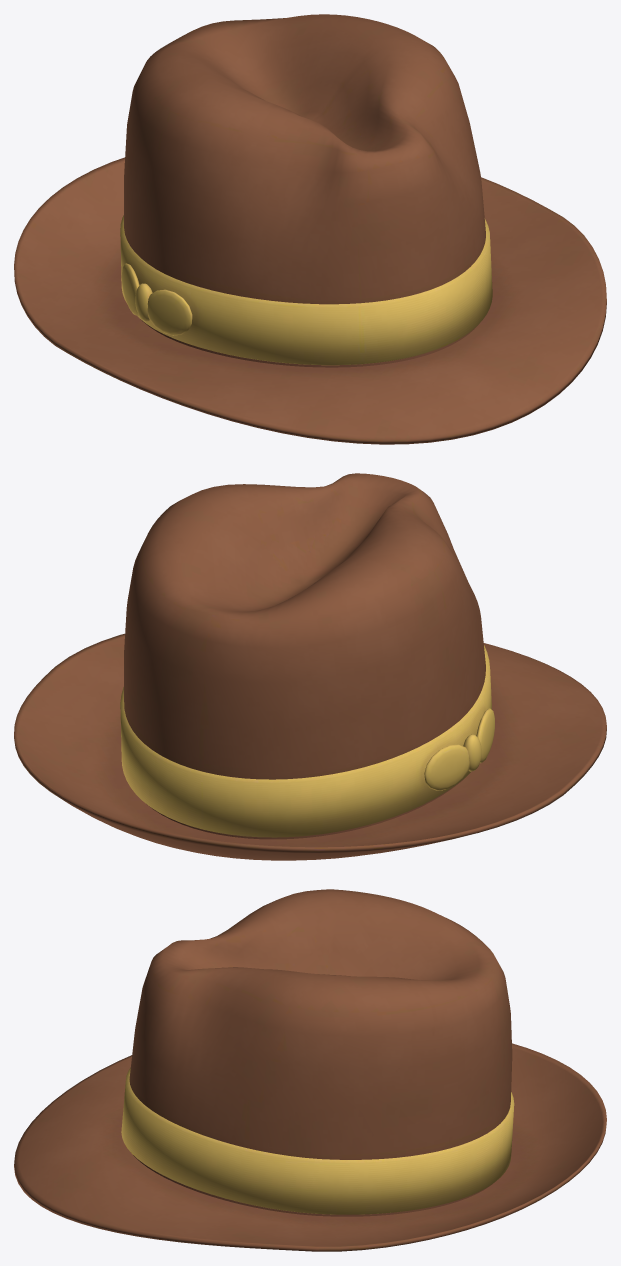
Rendered from fedora.glb.
3 views of the same model, one above another, from view 1: azimuth 30°, elevation 25°; view 2: azimuth 150°, elevation 25°; view 3: azimuth 270°, elevation 25° (orthographic). The views are drawn at different scales.
Parts seen in each view (by area): view 1: fedora_body; view 2: fedora_body; view 3: fedora_body.
Boxes of the visible parts, <box> form: fedora_body: <box>14,14,606,444</box>; fedora_body: <box>14,473,606,860</box>; fedora_body: <box>14,889,606,1251</box>.
Size of the model in its own units: 0.2735 by 0.1271 by 0.2994.
Materials: 1 (1 with a texture image).
